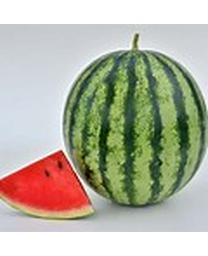watermelon: (63, 44, 207, 205), (0, 149, 101, 220)
